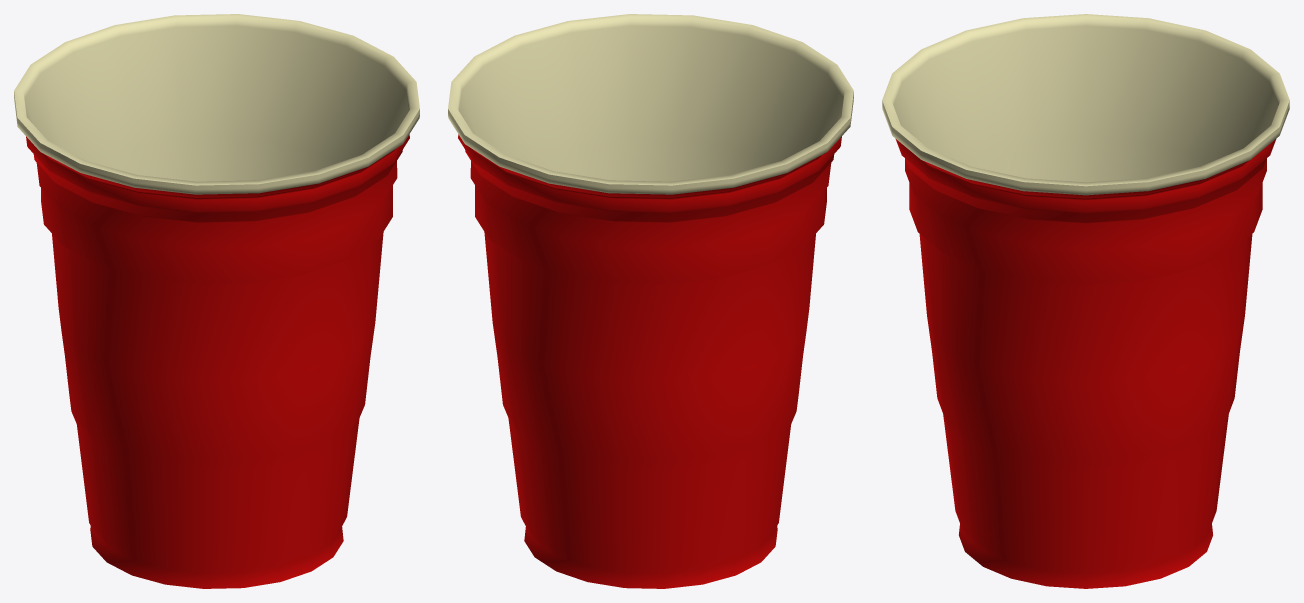
The model's file is SoloCupTest.fbx.
3 views of the same model, side by side, from view 1: azimuth 30°, elevation 25°; view 2: azimuth 150°, elevation 25°; view 3: azimuth 270°, elevation 25° (orthographic).
Parts seen in each view (by area): view 1: pCylinder1; view 2: pCylinder1; view 3: pCylinder1.
Boxes of the visible parts, box(x1,y1,x2,y2) form: pCylinder1: box(14, 14, 419, 588); pCylinder1: box(448, 14, 853, 588); pCylinder1: box(882, 14, 1289, 588).
Bounding box in the file's own units: 2.95 × 3.47 × 2.95.
